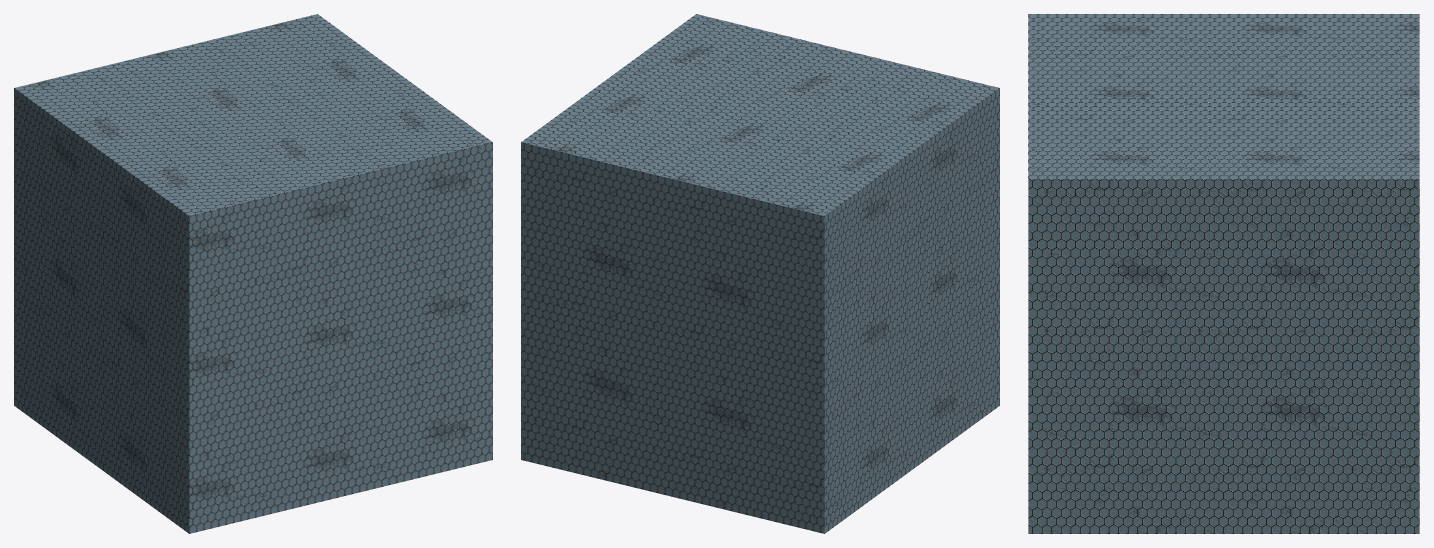
The model's file is Welcome Room.fbx.
3 views of the same model, side by side, from view 1: azimuth 30°, elevation 25°; view 2: azimuth 150°, elevation 25°; view 3: azimuth 270°, elevation 25° (orthographic). The views are drawn at different scales.
Visible parts, largest first — view 1: Cube; view 2: Cube; view 3: Cube.
Boxes of the visible parts, x1,y1,x2,y2 form: Cube: [14, 14, 492, 533]; Cube: [521, 14, 999, 533]; Cube: [1028, 14, 1419, 533].
Size of the model in its own units: 8287 by 8287 by 8287.
